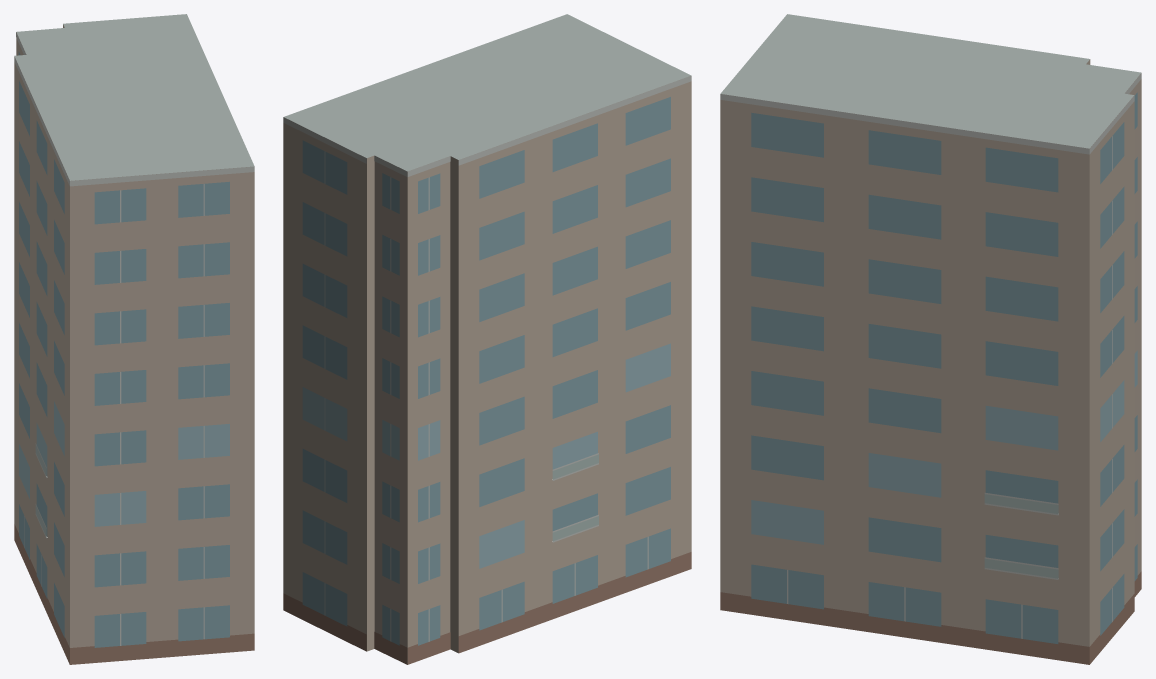
File: survey-upis-32882653.glb
The picture shows the model from 3 angles, left to right: view 1: azimuth 30°, elevation 25°; view 2: azimuth 150°, elevation 25°; view 3: azimuth 270°, elevation 25°; orthographic projection. The views are drawn at different scales.
Visible parts, largest first — view 1: survey-upis-32882653.tmp; view 2: survey-upis-32882653.tmp; view 3: survey-upis-32882653.tmp.
Part boxes in pixels (x1=…): survey-upis-32882653.tmp: x1=14, y1=14, x2=254, y2=664; survey-upis-32882653.tmp: x1=283, y1=14, x2=691, y2=664; survey-upis-32882653.tmp: x1=720, y1=14, x2=1141, y2=664.
Bounding box in the file's own units: 11.81 × 21.1 × 15.62.
